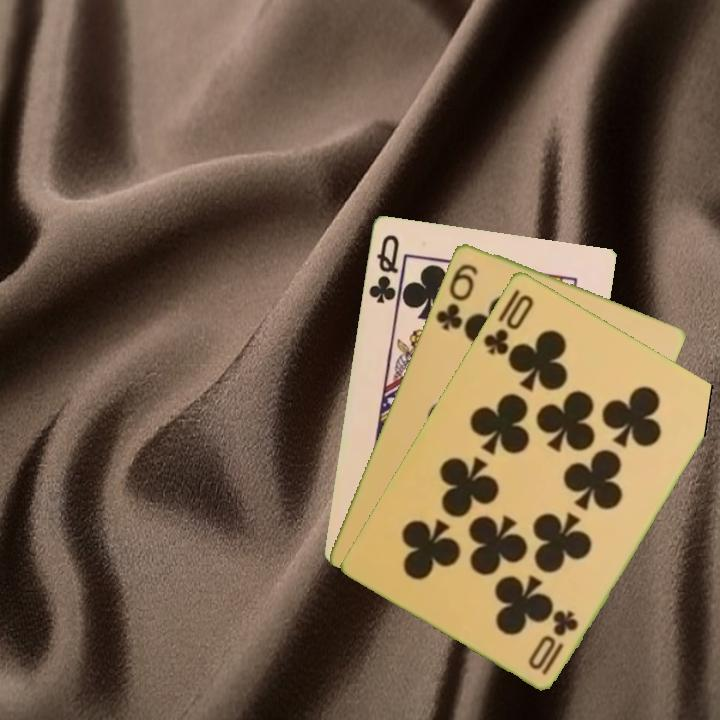10c: (524, 606, 582, 678), (479, 290, 537, 358)
6c: (431, 260, 481, 333)
Qc: (365, 230, 402, 306)
